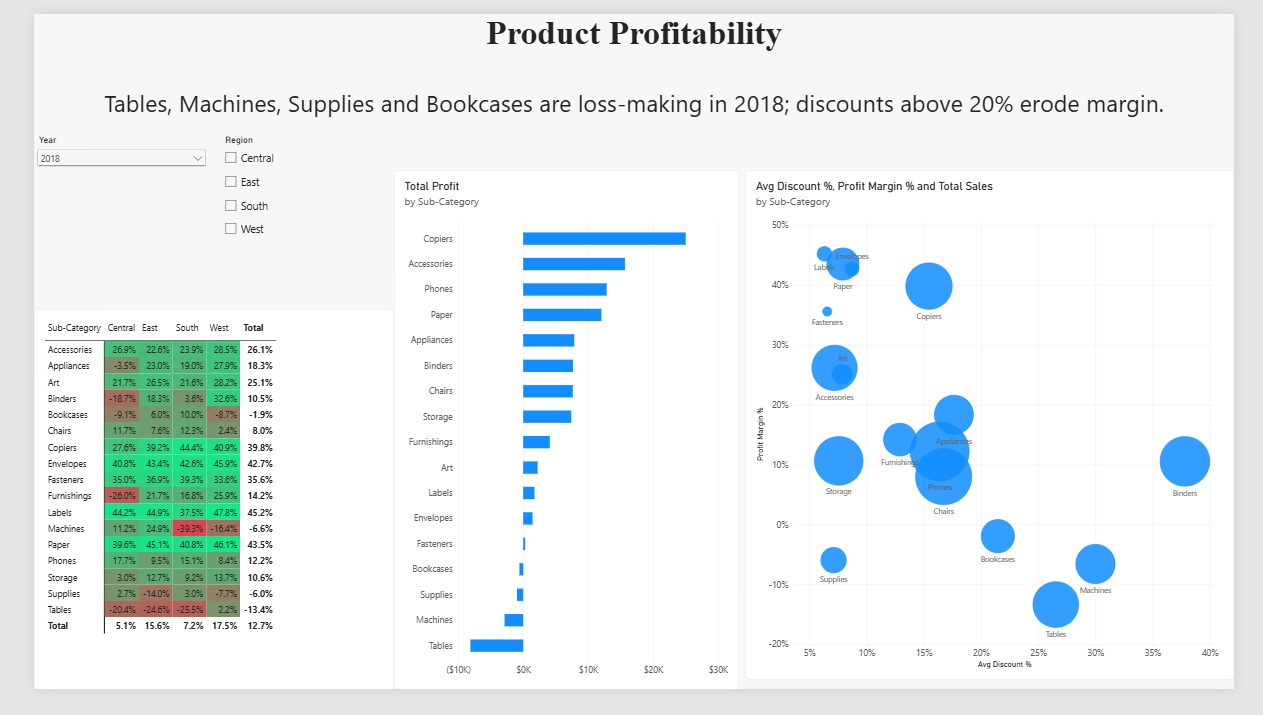

This screenshot's page, from the dashboard's own definition file:
{"tool":"powerbi","page":{"name":"Product Profitability","canvas":[1920,1080],"ordinal":1},"visuals":[{"type":"pivotTable","fields":{"Columns":["Fact_Orders.Region"],"Rows":["Dim_Product.Sub-Category"],"Values":["Fact_Orders.Profit Margin %"]},"box":[0,471.4,576.3,609.3],"z":0},{"type":"clusteredBarChart","fields":{"Category":["Dim_Product.Sub-Category"],"Y":["Fact_Orders.Total Profit"]},"box":[576.3,249.1,551.6,831.6],"z":1},{"type":"scatterChart","fields":{"Category":["Dim_Product.Sub-Category"],"Size":["Fact_Orders.Total Sales"],"X":["Fact_Orders.Avg Discount %"],"Y":["Fact_Orders.Profit Margin %"]},"box":[1138.3,249.1,782.2,815.1],"z":2},{"type":"textbox","box":[0,0,1920.4,78.2],"z":3},{"type":"textbox","box":[0,115.3,1920.4,102.9],"z":4},{"type":"slicer","fields":{"Values":["Dim_Date.Year"]},"box":[0,191.5,280,280],"z":5},{"type":"slicer","fields":{"Values":["Fact_Orders.Region"]},"box":[298.7,191.5,280,280],"z":6}]}

Visuals, with their boxes in screenshot pixels (x1, y1, x2, y2), scaled from the page's 1920x1080 canvas onto the 1263x715 screenshot:
pivotTable - Fact_Orders.Region x Dim_Product.Sub-Category: detection(0, 312, 379, 714)
clusteredBarChart - Dim_Product.Sub-Category x Fact_Orders.Total Profit: detection(379, 165, 742, 714)
scatterChart - Dim_Product.Sub-Category x Fact_Orders.Total Sales: detection(749, 165, 1262, 705)
textbox: detection(0, 0, 1262, 52)
textbox: detection(0, 76, 1262, 144)
slicer - Dim_Date.Year: detection(0, 127, 184, 312)
slicer - Fact_Orders.Region: detection(196, 127, 381, 312)
